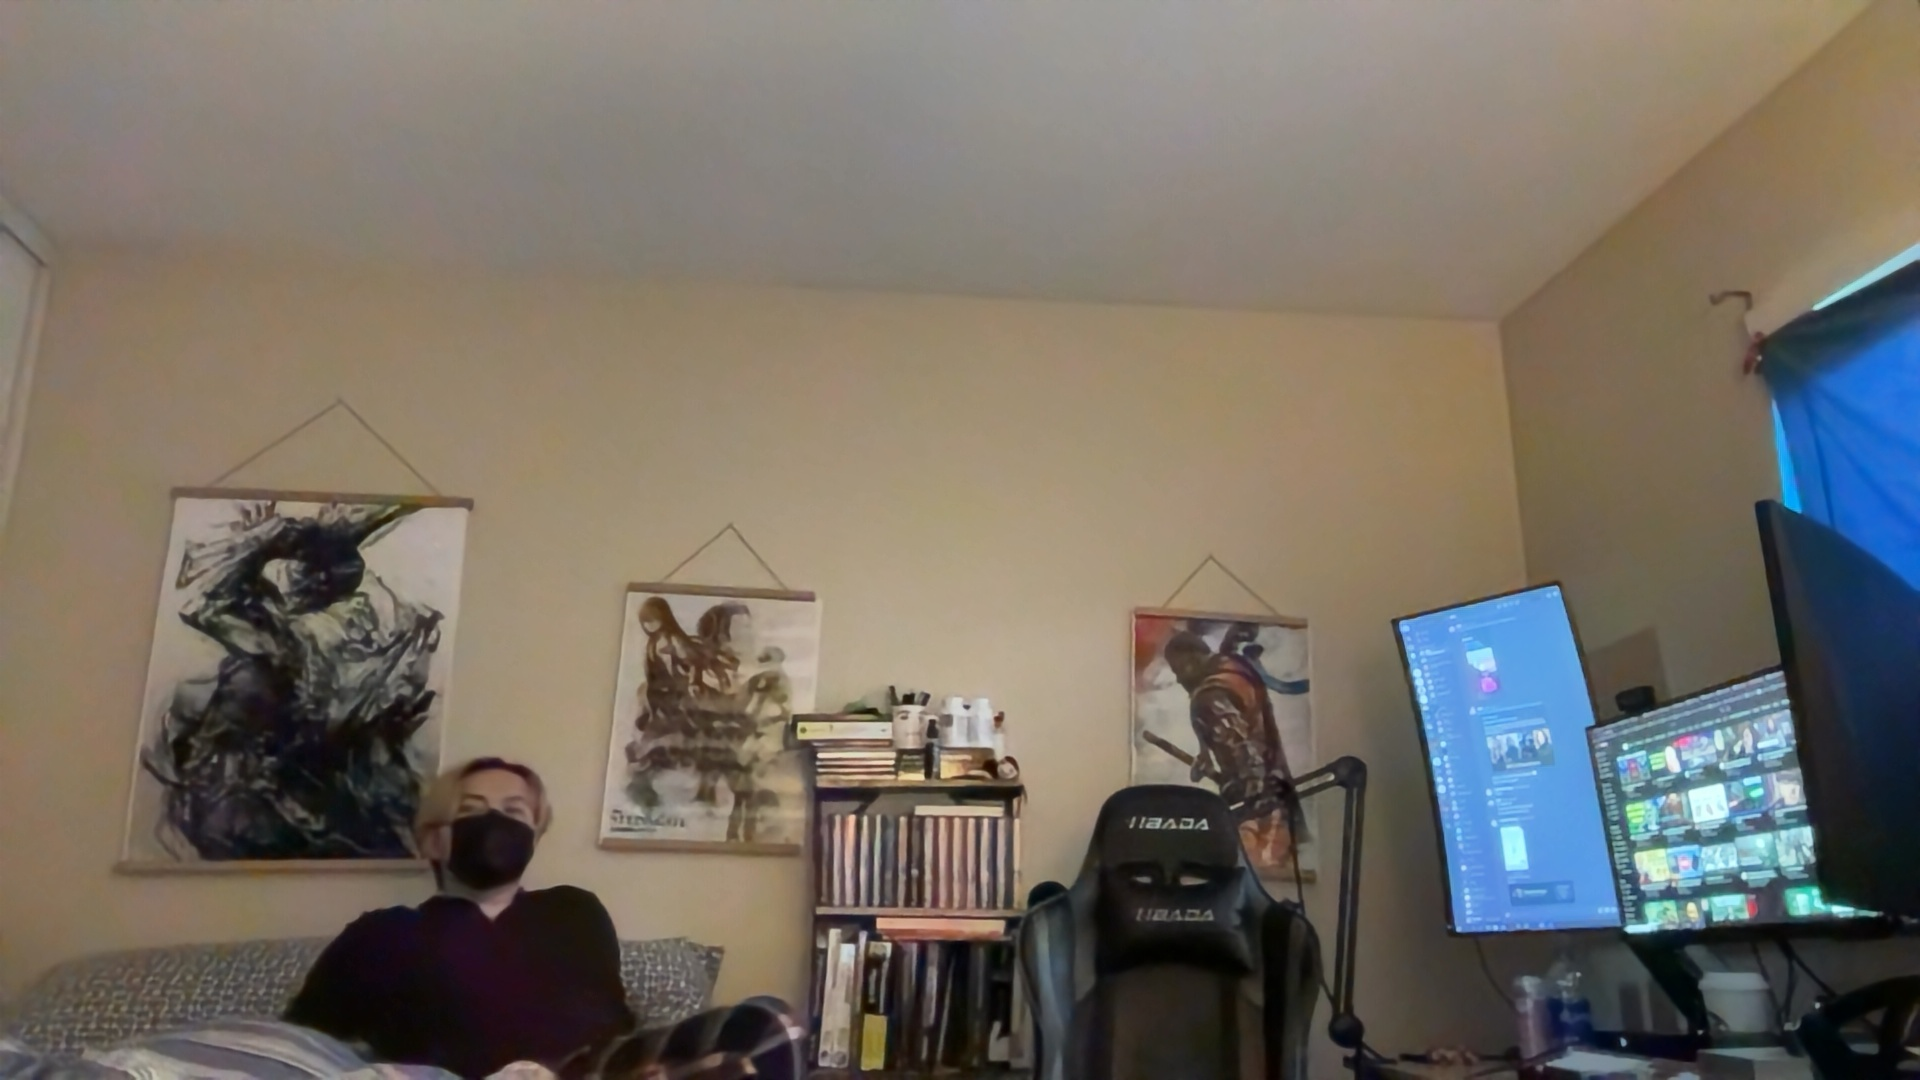masked: (439, 778, 539, 884)
